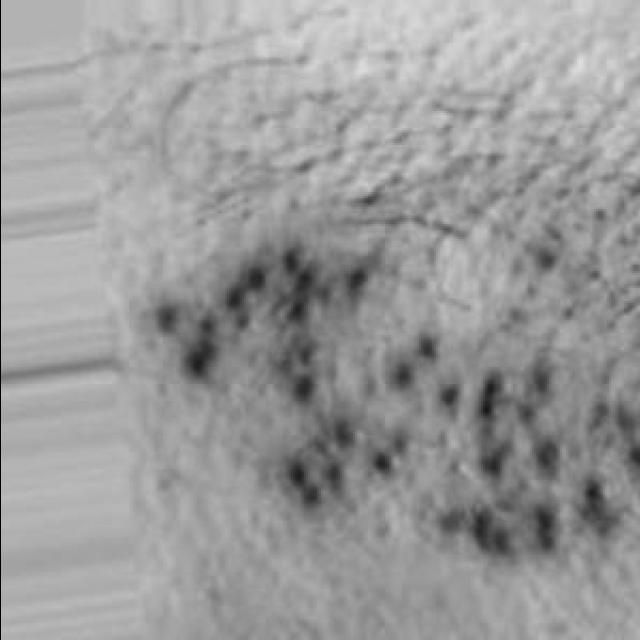Shingles: (149, 236, 640, 563)
